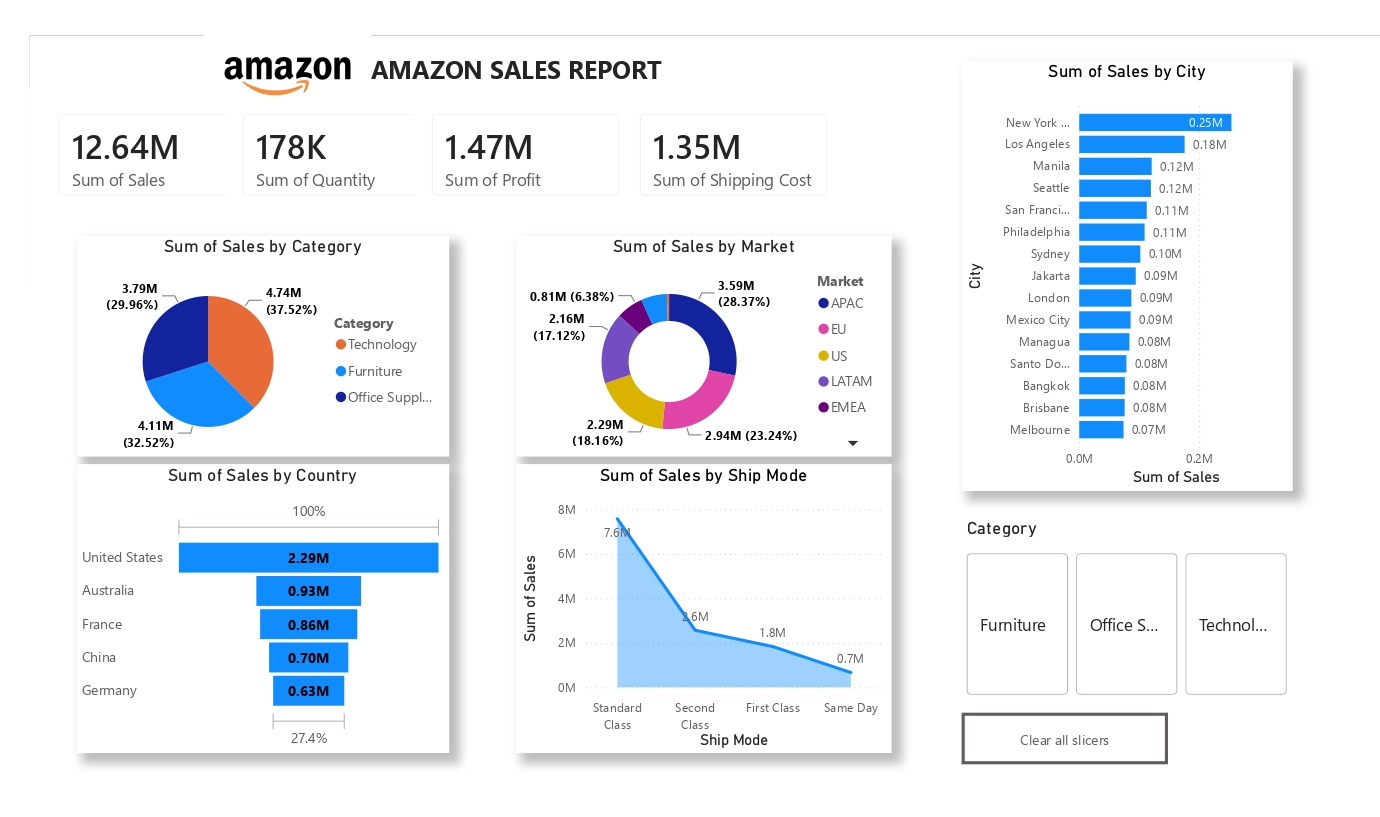

Layout of this report page (visuals, bound fields, positions):
{"tool":"powerbi","page":{"name":"Page 1","canvas":[1280,720],"ordinal":0},"visuals":[{"type":"pieChart","fields":{"Category":["Orders.Category"],"Y":["Sum(Orders.Sales)"]},"box":[45.5,193.9,360.6,213.6],"z":0},{"type":"donutChart","fields":{"Category":["Orders.Market"],"Y":["Sum(Orders.Sales)"]},"box":[471.2,193.9,363.6,213.6],"z":1000},{"type":"funnel","fields":{"Category":["Orders.Country"],"Y":["Sum(Orders.Sales)"]},"box":[45.5,415.2,360.6,280.3],"z":1001},{"type":"barChart","fields":{"Category":["Orders.City"],"Y":["Sum(Orders.Sales)"]},"box":[903,24.2,321.2,416.7],"z":1002},{"type":"areaChart","fields":{"Category":["Orders.Ship Mode"],"Y":["Sum(Orders.Sales)"]},"box":[471.2,415.2,363.6,280.3],"z":1003},{"type":"cardVisual","fields":{"Data":["Sum(Orders.Sales)"]},"box":[10.6,59.1,215.2,113.6],"z":1004},{"type":"cardVisual","fields":{"Data":["Sum(Orders.Quantity)"]},"box":[189.4,59.1,215.2,113.6],"z":1005},{"type":"cardVisual","fields":{"Data":["Sum(Orders.Profit)"]},"box":[372.7,59.1,215.2,113.6],"z":1006},{"type":"cardVisual","fields":{"Data":["Sum(Orders.Shipping Cost)"]},"box":[574.2,59.1,215.2,113.6],"z":1007},{"type":"advancedSlicerVisual","fields":{"Values":["Orders.Category"]},"box":[903,466.7,321.2,177.3],"z":1008},{"type":"actionButton","box":[903,656.1,200,50],"z":1009},{"type":"textbox","box":[107.6,10.6,727.3,48.5],"z":1010},{"type":"image","box":[107.6,0,283.3,71.2],"z":1011}]}

Visuals, with their boxes on the page's 1280x720 design canvas (x1, y1, x2, y2). These are canvas units, not pixel positions in the 1380x817 screenshot, which may show the page scaled, cropped or inside an application window:
pieChart - Orders.Category x Sum(Orders.Sales): BBox(46, 194, 406, 408)
donutChart - Orders.Market x Sum(Orders.Sales): BBox(471, 194, 835, 408)
funnel - Orders.Country x Sum(Orders.Sales): BBox(46, 415, 406, 696)
barChart - Orders.City x Sum(Orders.Sales): BBox(903, 24, 1224, 441)
areaChart - Orders.Ship Mode x Sum(Orders.Sales): BBox(471, 415, 835, 696)
cardVisual - Sum(Orders.Sales): BBox(11, 59, 226, 173)
cardVisual - Sum(Orders.Quantity): BBox(189, 59, 405, 173)
cardVisual - Sum(Orders.Profit): BBox(373, 59, 588, 173)
cardVisual - Sum(Orders.Shipping Cost): BBox(574, 59, 789, 173)
advancedSlicerVisual - Orders.Category: BBox(903, 467, 1224, 644)
actionButton: BBox(903, 656, 1103, 706)
textbox: BBox(108, 11, 835, 59)
image: BBox(108, 0, 391, 71)
